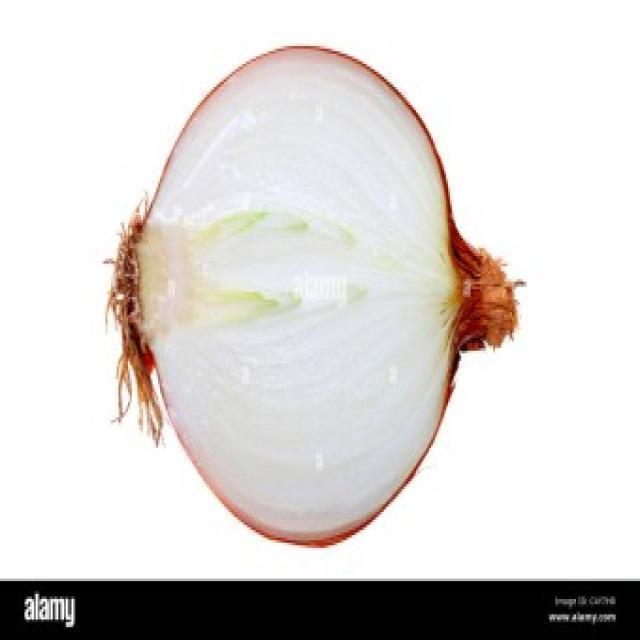Onion: (98, 44, 527, 548)
